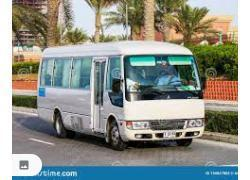bus: (36, 39, 205, 148)
